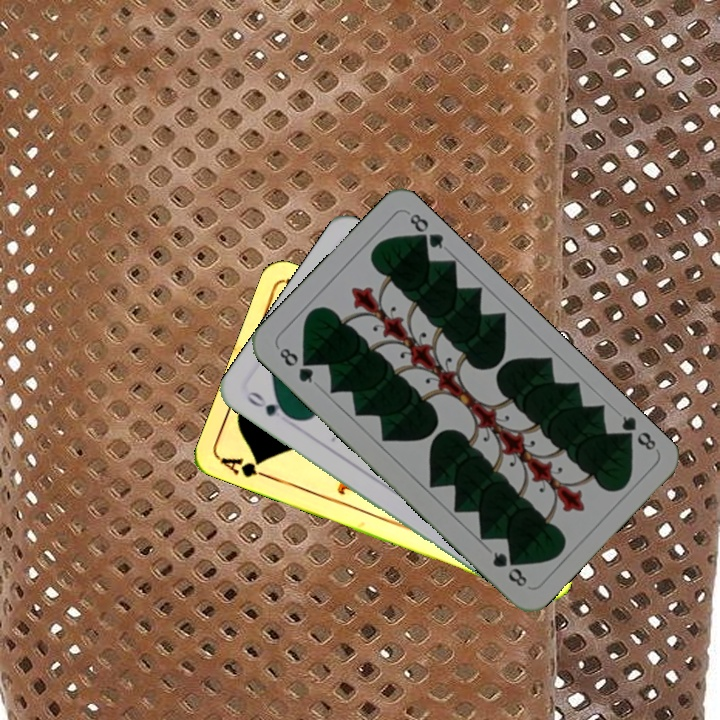G8: (614, 411, 659, 453), (275, 343, 317, 386)
GA: (217, 453, 274, 482)
GO: (242, 387, 296, 427)
